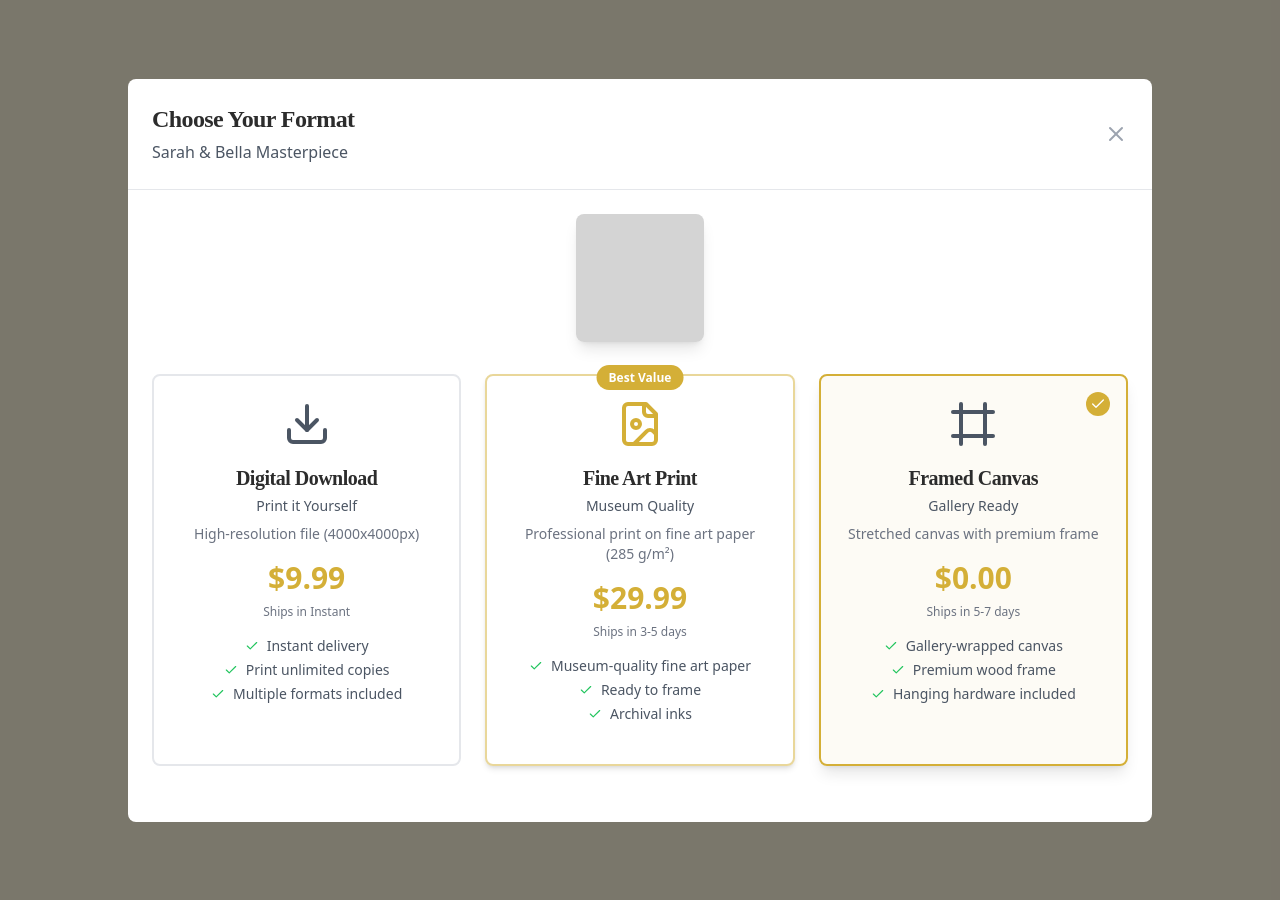
it: PurchaseModalEqualTiers › enables purchase button only when tier is selected
expect the text "Get My Masterpiece" is not shown: met
Note: Select a tier
Click the text "Digital Download": (307, 424) [178,400,435,704]
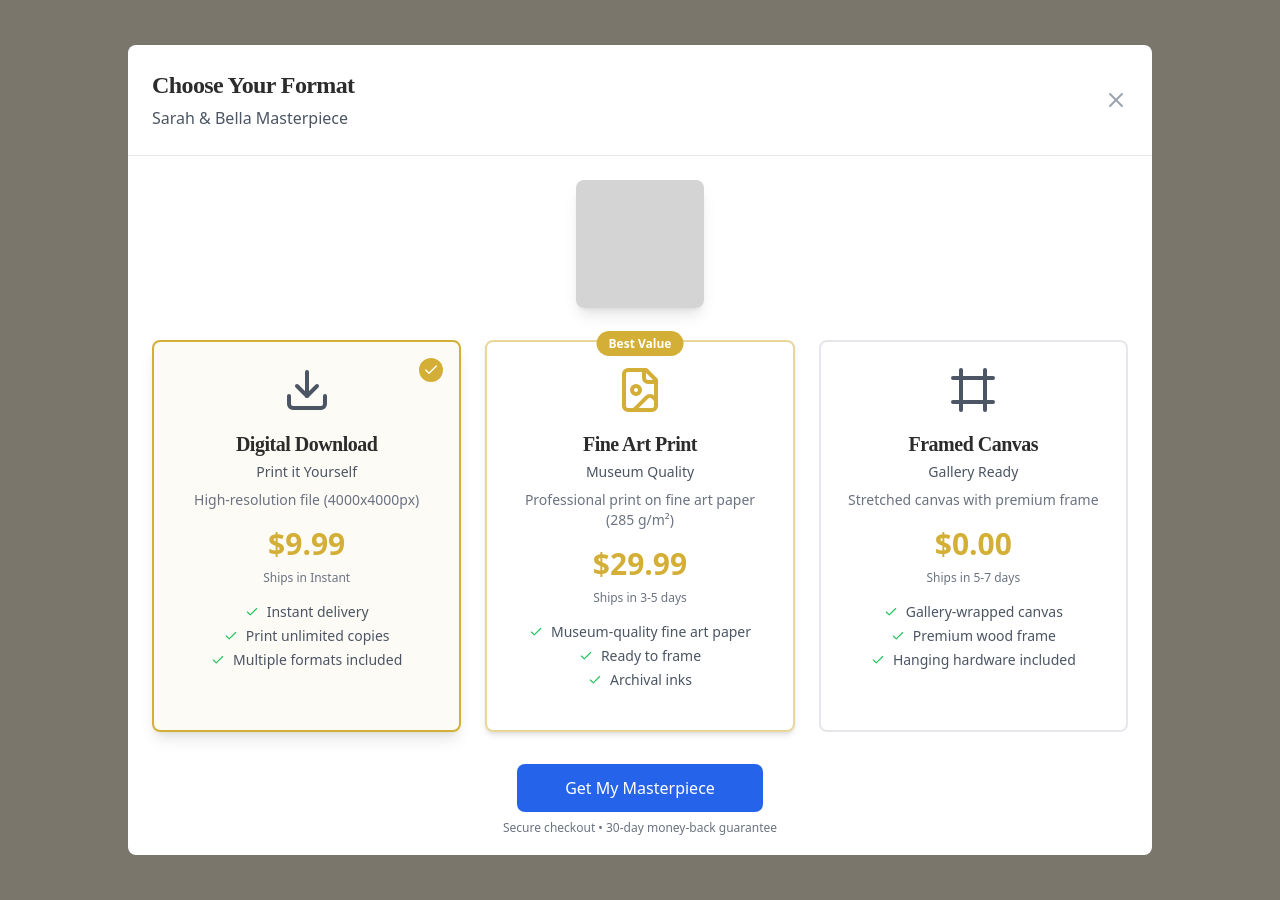
expect the button "Get My Masterpiece" is shown: met, box [517,764,763,812]
